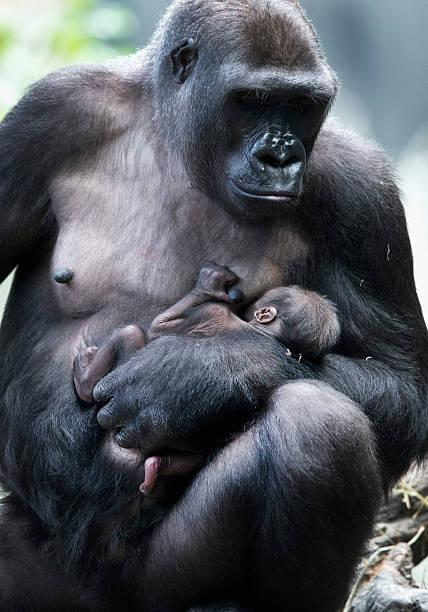gorille_Autres: (5, 0, 424, 612)
